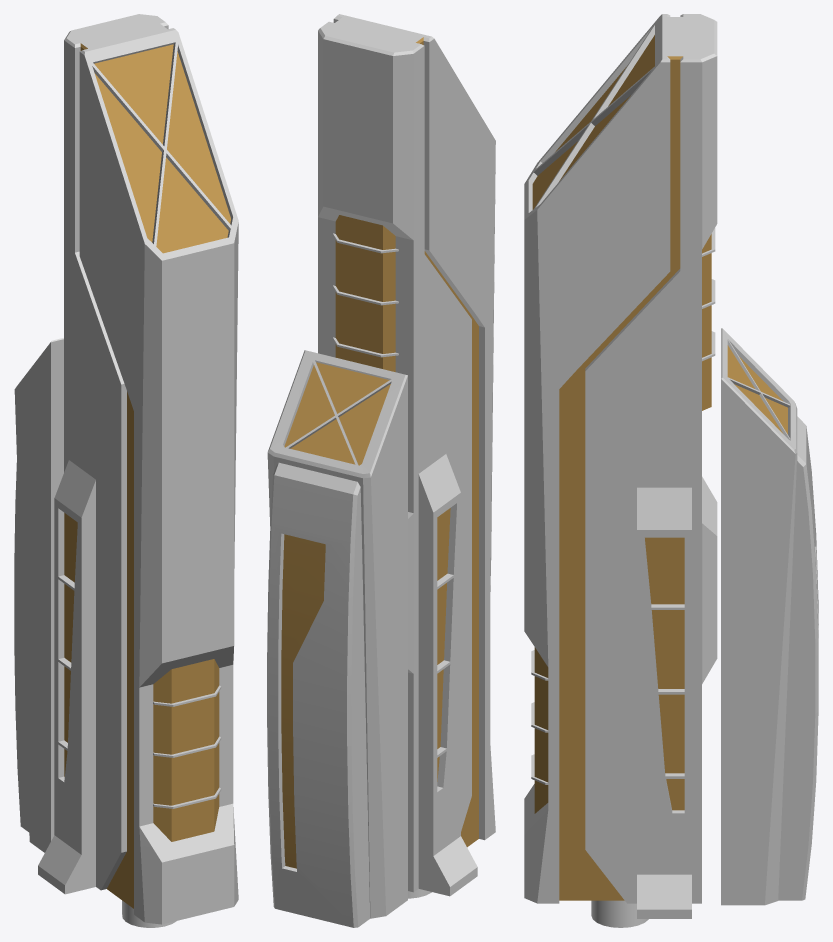
File: skyscraper_4.fbx
The picture shows the model from 3 angles, left to right: view 1: azimuth 30°, elevation 25°; view 2: azimuth 150°, elevation 25°; view 3: azimuth 270°, elevation 25°; orthographic projection. The views are drawn at different scales.
Parts seen in each view (by area): view 1: Cube.013; view 2: Cube.013; view 3: Cube.013, Cylinder.008.
Part boxes in pixels (<box>): Cube.013: <box>14,14,238,924</box>; Cube.013: <box>267,14,495,927</box>; Cube.013: <box>524,14,818,918</box>; Cylinder.008: <box>591,900,648,927</box>.
Bounding box in the file's own units: 1868 × 9857 × 2991.
